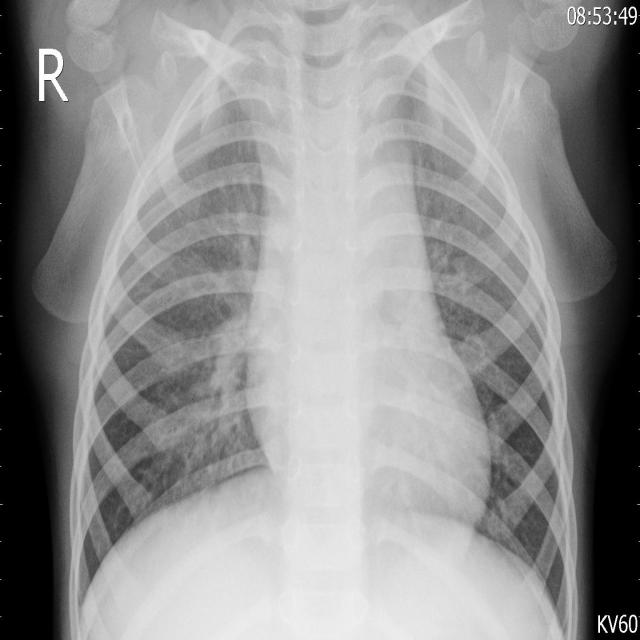no-pneumonia: (71, 75, 270, 625), (401, 96, 577, 636)
